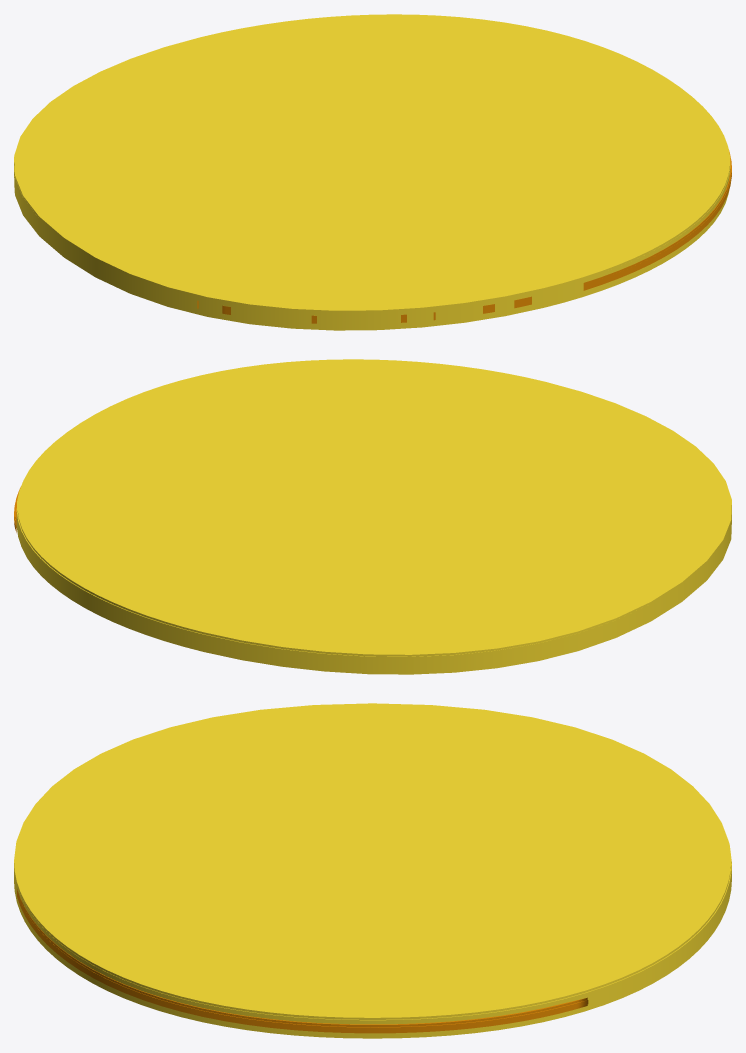
The model's file is emoji_u1f635_200d_1f4ab.glb.
3 views of the same model, one above another, from view 1: azimuth 30°, elevation 25°; view 2: azimuth 150°, elevation 25°; view 3: azimuth 270°, elevation 25° (orthographic). The views are drawn at different scales.
Parts seen in each view (by area): view 1: emoji_u1f635_200d_1f4ab; view 2: emoji_u1f635_200d_1f4ab; view 3: emoji_u1f635_200d_1f4ab.
Part boxes in pixels (<box>): emoji_u1f635_200d_1f4ab: <box>14,14,731,330</box>; emoji_u1f635_200d_1f4ab: <box>14,359,731,674</box>; emoji_u1f635_200d_1f4ab: <box>14,703,731,1038</box>.
Bounding box in the file's own units: 0.0327 × 0.001 × 0.0315.
